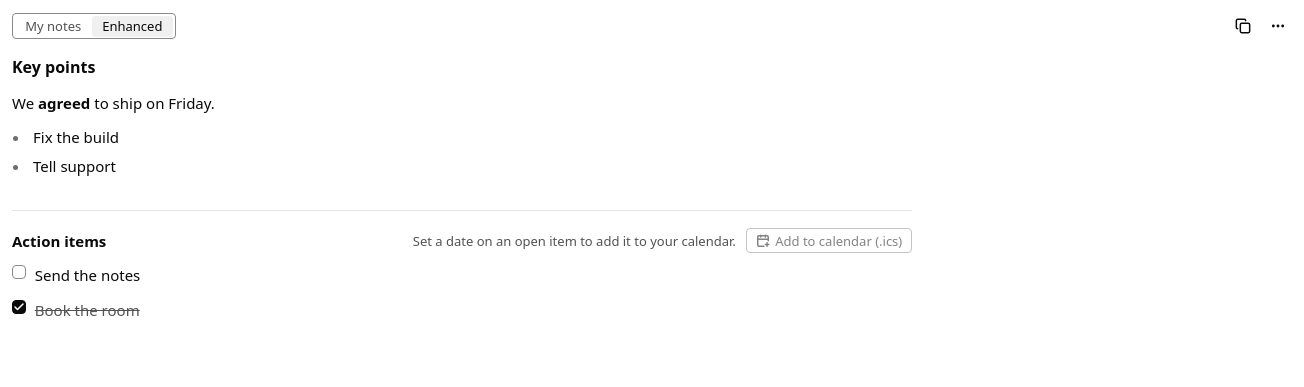
Test: SummaryTab action items › also rolls back when the request itself throws
Click the checkbox named "Book the room" next to "Book the room": (19, 306) [12,300,26,314]
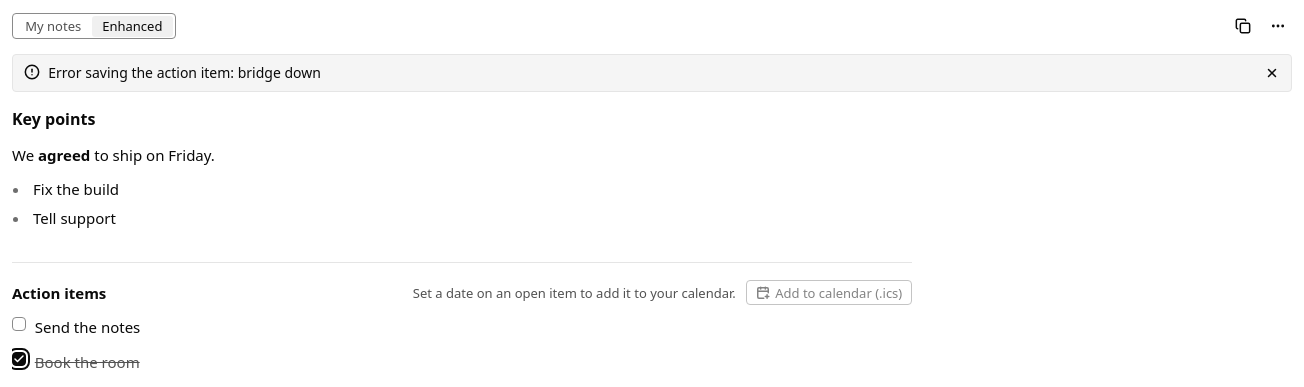
Expected: the checkbox named "Book the room" next to "Book the room" is checked, [12,352,26,366]
Now the text "Error saving the action item: bridge down" is shown, box [48,63,321,82]
